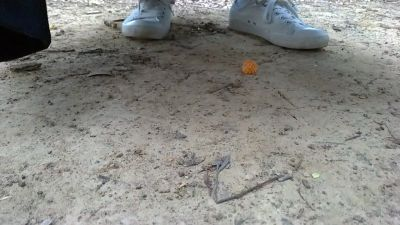eggs: (239, 56, 262, 79)
